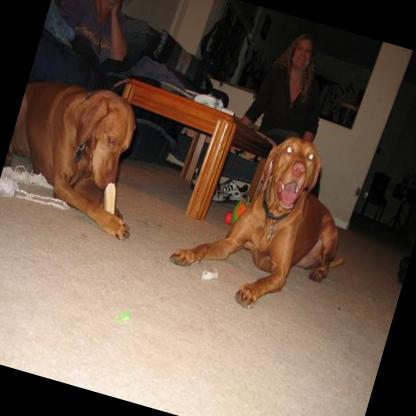vizsla: (160, 109, 375, 330), (0, 65, 167, 244)
